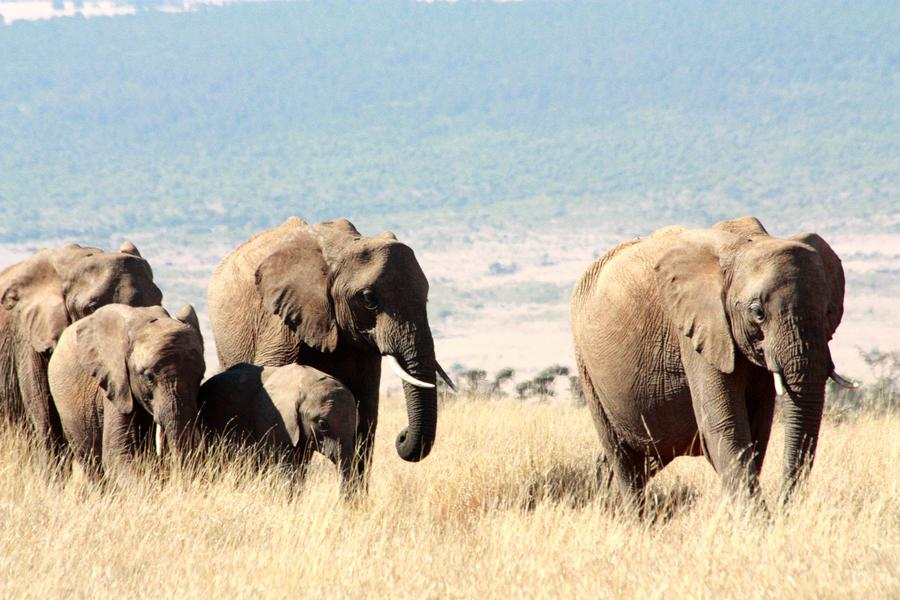elephant: (648, 237, 858, 405), (81, 303, 220, 429)
